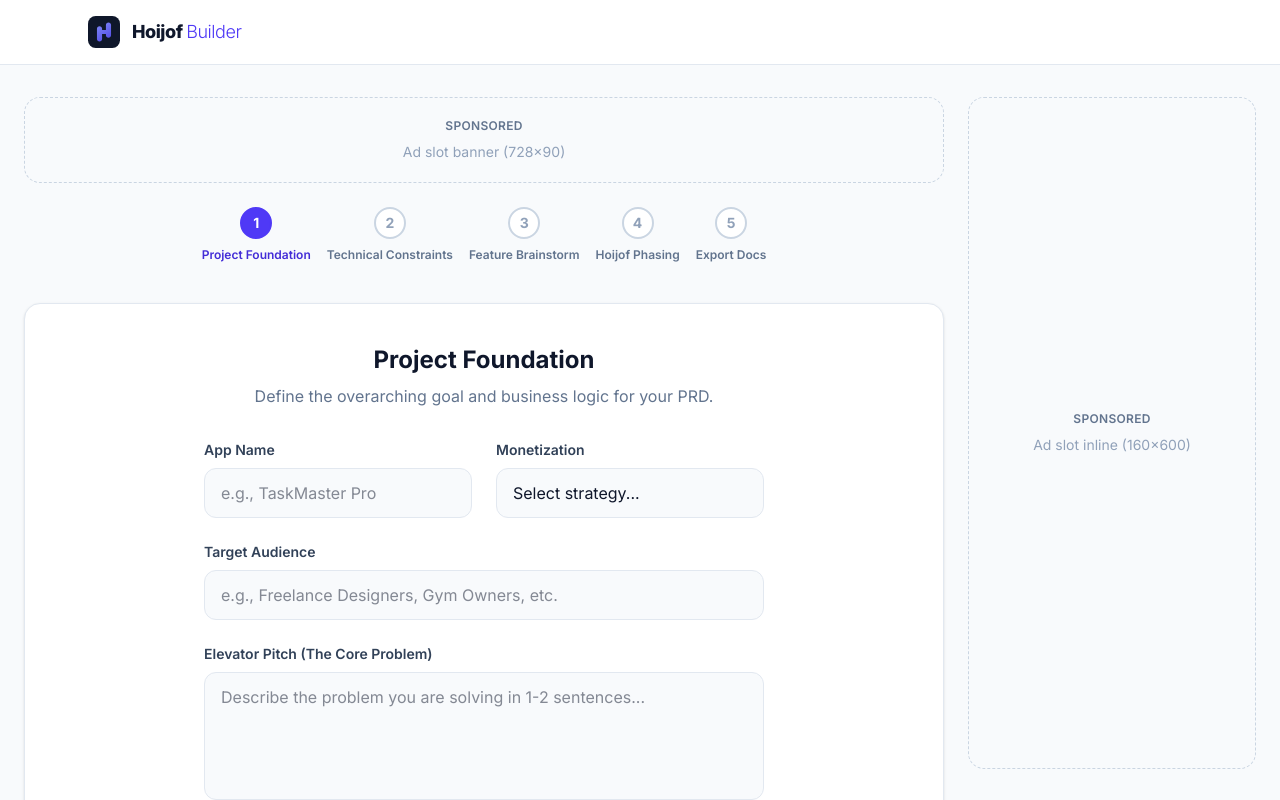
Test: Phase 2 persistence integration › resets state and clears storage
Type "Temp" into the field labelled "App Name" at (338, 493), box [204, 468, 472, 518]
(page scrolled)
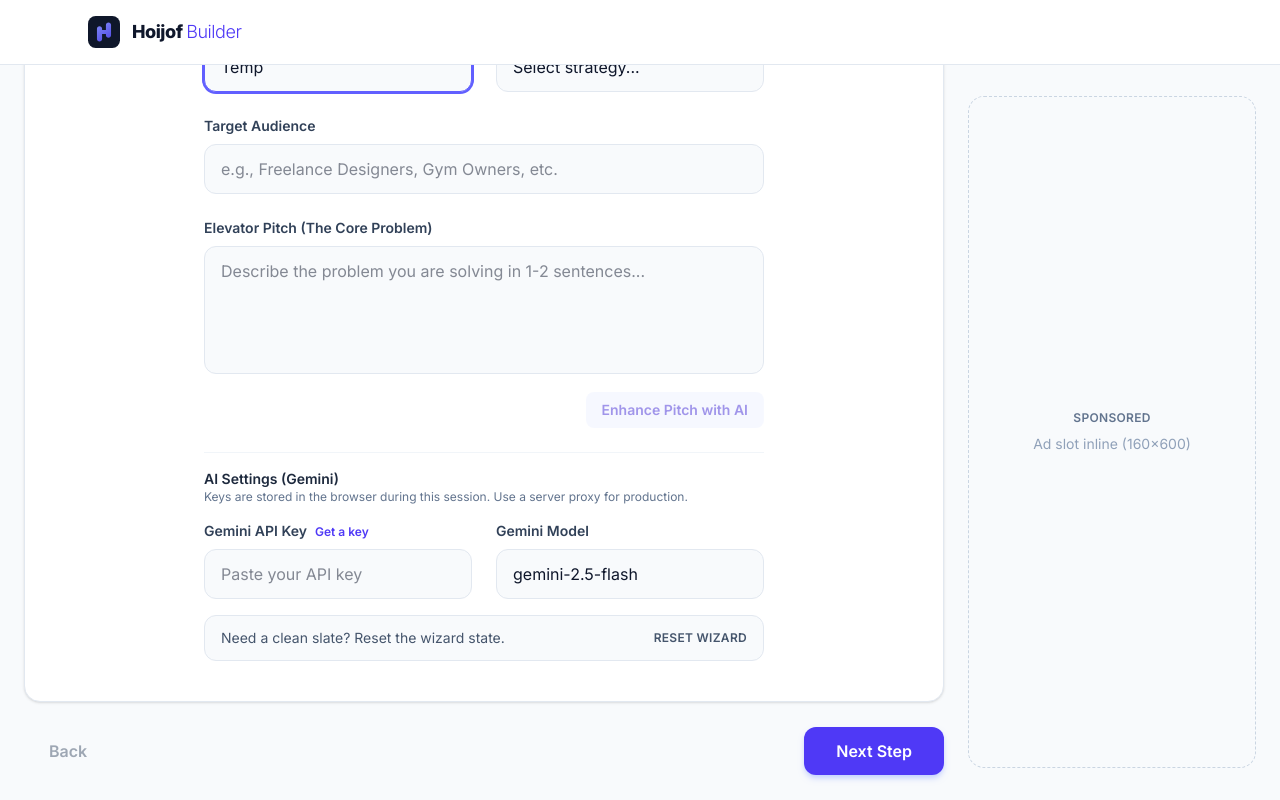
Click the button "Reset Wizard" at (700, 638), box [654, 630, 747, 646]
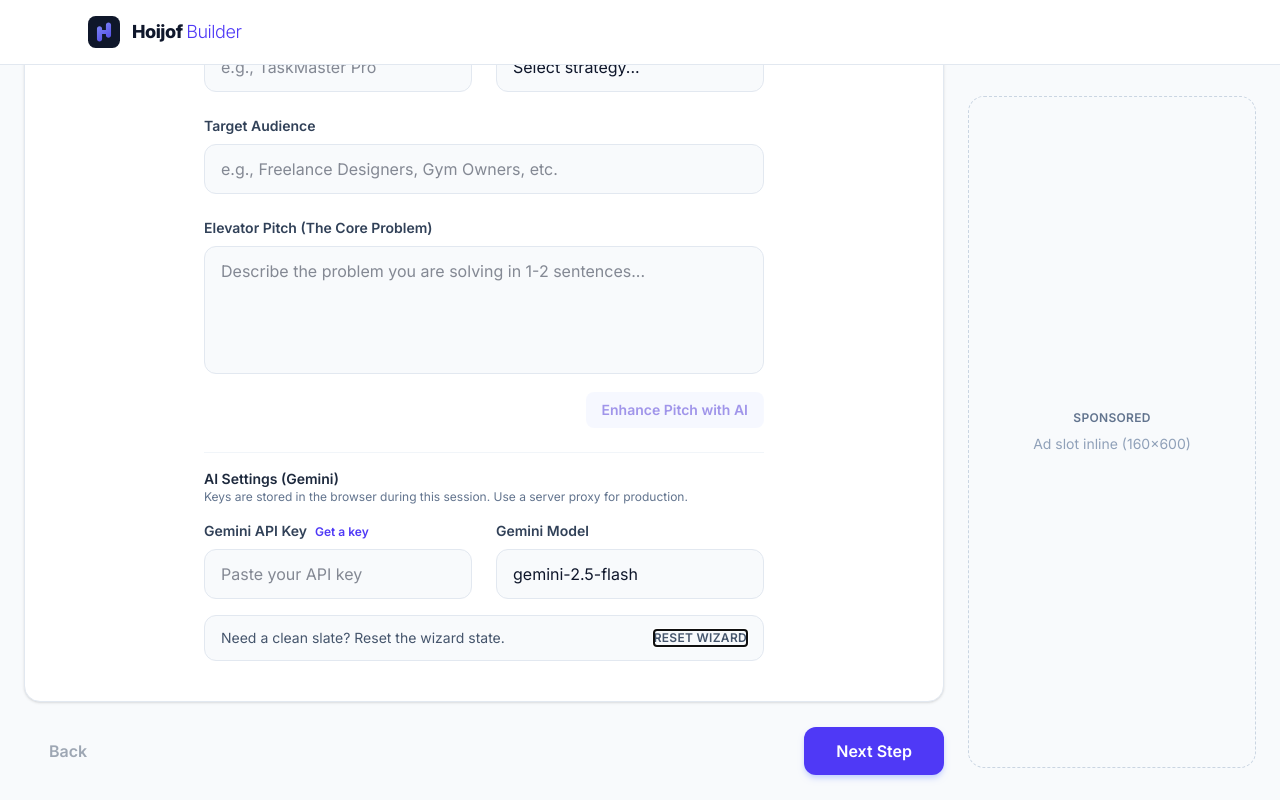
Result: the field labelled "App Name" is empty at [204, 42, 472, 92]
